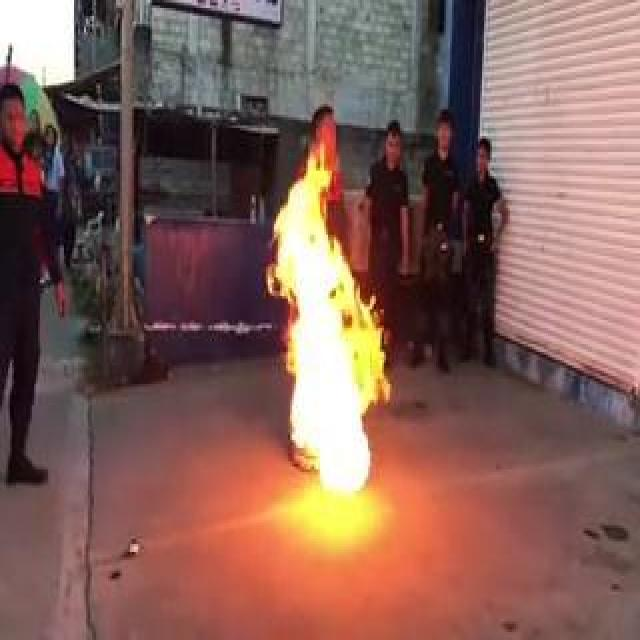fire: (270, 150, 392, 502)
